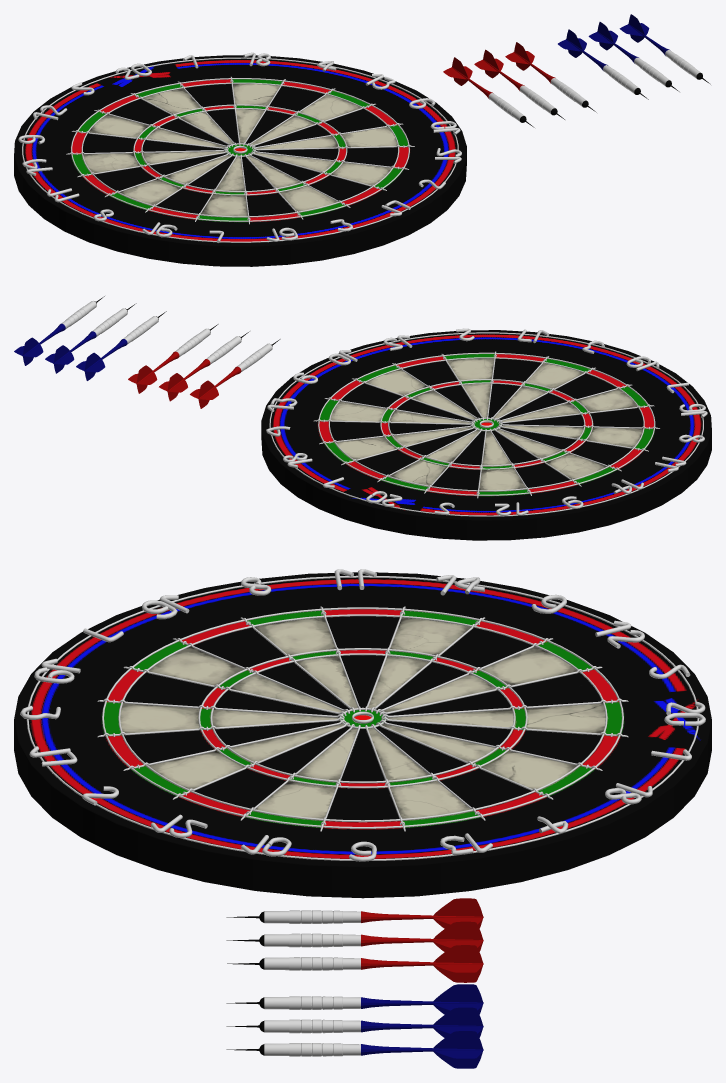
File: Dart_board.obj
3 views of the same model, one above another, from view 1: azimuth 30°, elevation 25°; view 2: azimuth 150°, elevation 25°; view 3: azimuth 270°, elevation 25° (orthographic). The views are drawn at different scales.
Parts seen in each view (by area): view 1: Cylinder002, Line001, Torus006, Torus005, Torus004, Cylinder024, Cylinder023, Cylinder025, Cylinder028, Cylinder026, Cylinder027, Torus003 (+1 smaller); view 2: Cylinder002, Line001, Torus006, Torus005, Torus004, Cylinder023, Cylinder024, Cylinder025, Cylinder026, Cylinder028, Cylinder027, Torus003 (+1 smaller); view 3: Cylinder002, Line001, Cylinder027, Cylinder025, Torus006, Torus005, Cylinder026, Cylinder024, Cylinder023, Cylinder028, Torus004, Torus003 (+1 smaller).
Boxes of the visible parts, x1,y1,x2,y2 form: Cylinder002: (14, 55, 466, 266); Line001: (18, 52, 461, 242); Torus006: (22, 57, 458, 242); Torus005: (71, 78, 409, 221); Torus004: (81, 82, 399, 217); Cylinder024: (474, 49, 564, 119); Cylinder023: (443, 57, 534, 127); Cylinder025: (505, 42, 596, 112); Cylinder028: (558, 29, 648, 99); Cylinder026: (588, 22, 679, 91); Cylinder027: (619, 14, 710, 84); Torus003: (133, 104, 347, 195); Cylinder002: (261, 330, 711, 540); Line001: (266, 328, 707, 515); Torus006: (269, 332, 703, 516); Torus005: (318, 352, 655, 495); Torus004: (328, 357, 644, 491); Cylinder023: (190, 339, 280, 408); Cylinder024: (159, 331, 249, 401); Cylinder025: (128, 324, 218, 393); Cylinder026: (45, 303, 136, 373); Cylinder028: (76, 311, 166, 380); Cylinder027: (14, 296, 104, 365); Torus003: (380, 379, 593, 469); Cylinder002: (14, 572, 711, 898); Line001: (20, 569, 705, 861); Cylinder027: (226, 1031, 483, 1068); Cylinder025: (227, 945, 483, 982); Torus006: (26, 575, 699, 860); Torus005: (102, 607, 623, 828); Cylinder026: (226, 1007, 483, 1037); Cylinder024: (226, 921, 483, 951); Cylinder023: (226, 898, 483, 928); Cylinder028: (226, 984, 483, 1014); Torus004: (118, 614, 607, 822); Torus003: (198, 648, 527, 788).
Size of the model in its own units: 216 by 8.8 by 134.
